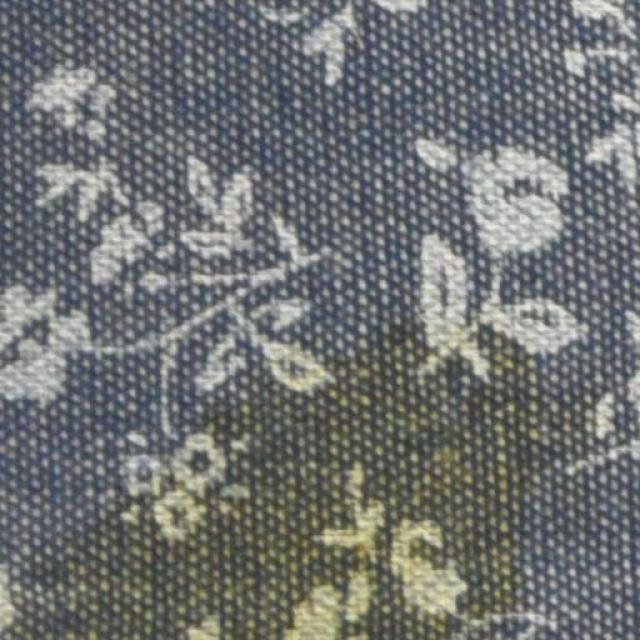Stain: (0, 318, 584, 640)
